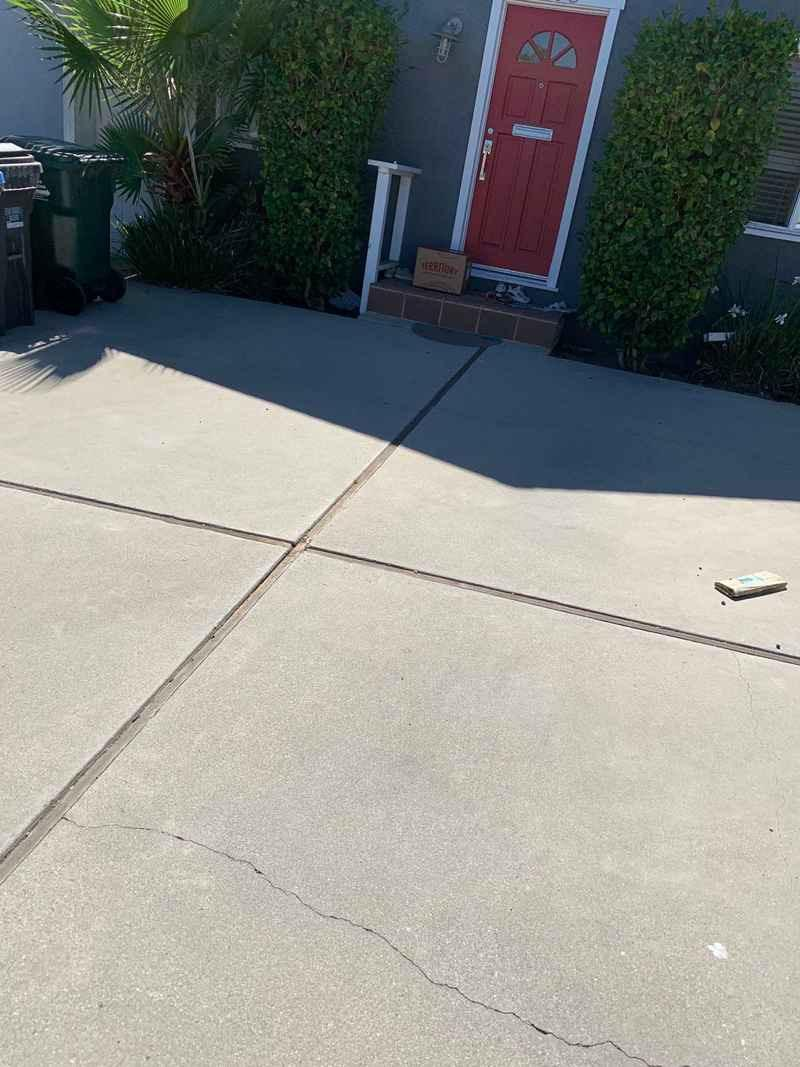package: (408, 240, 473, 296)
